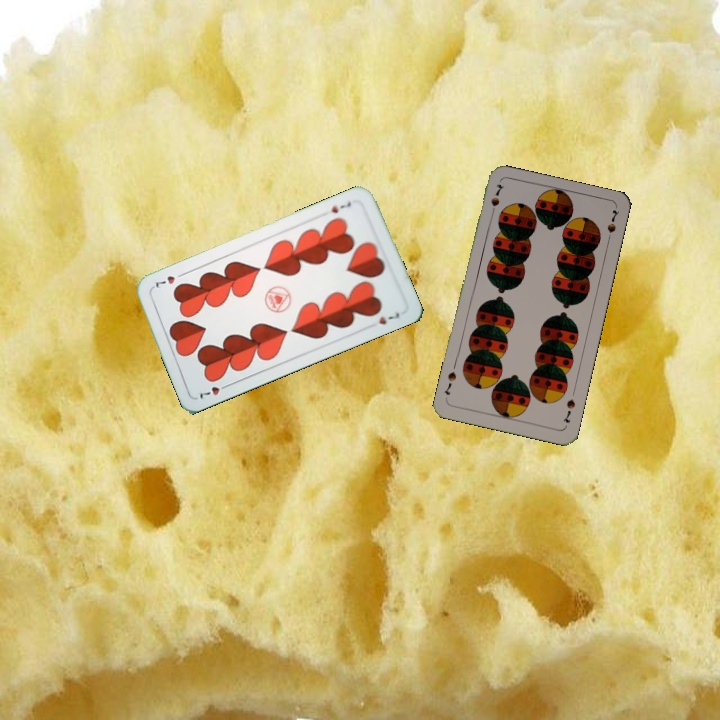H7: (194, 379, 233, 402), (326, 198, 354, 216)
S7: (487, 180, 506, 219), (559, 395, 578, 425)
